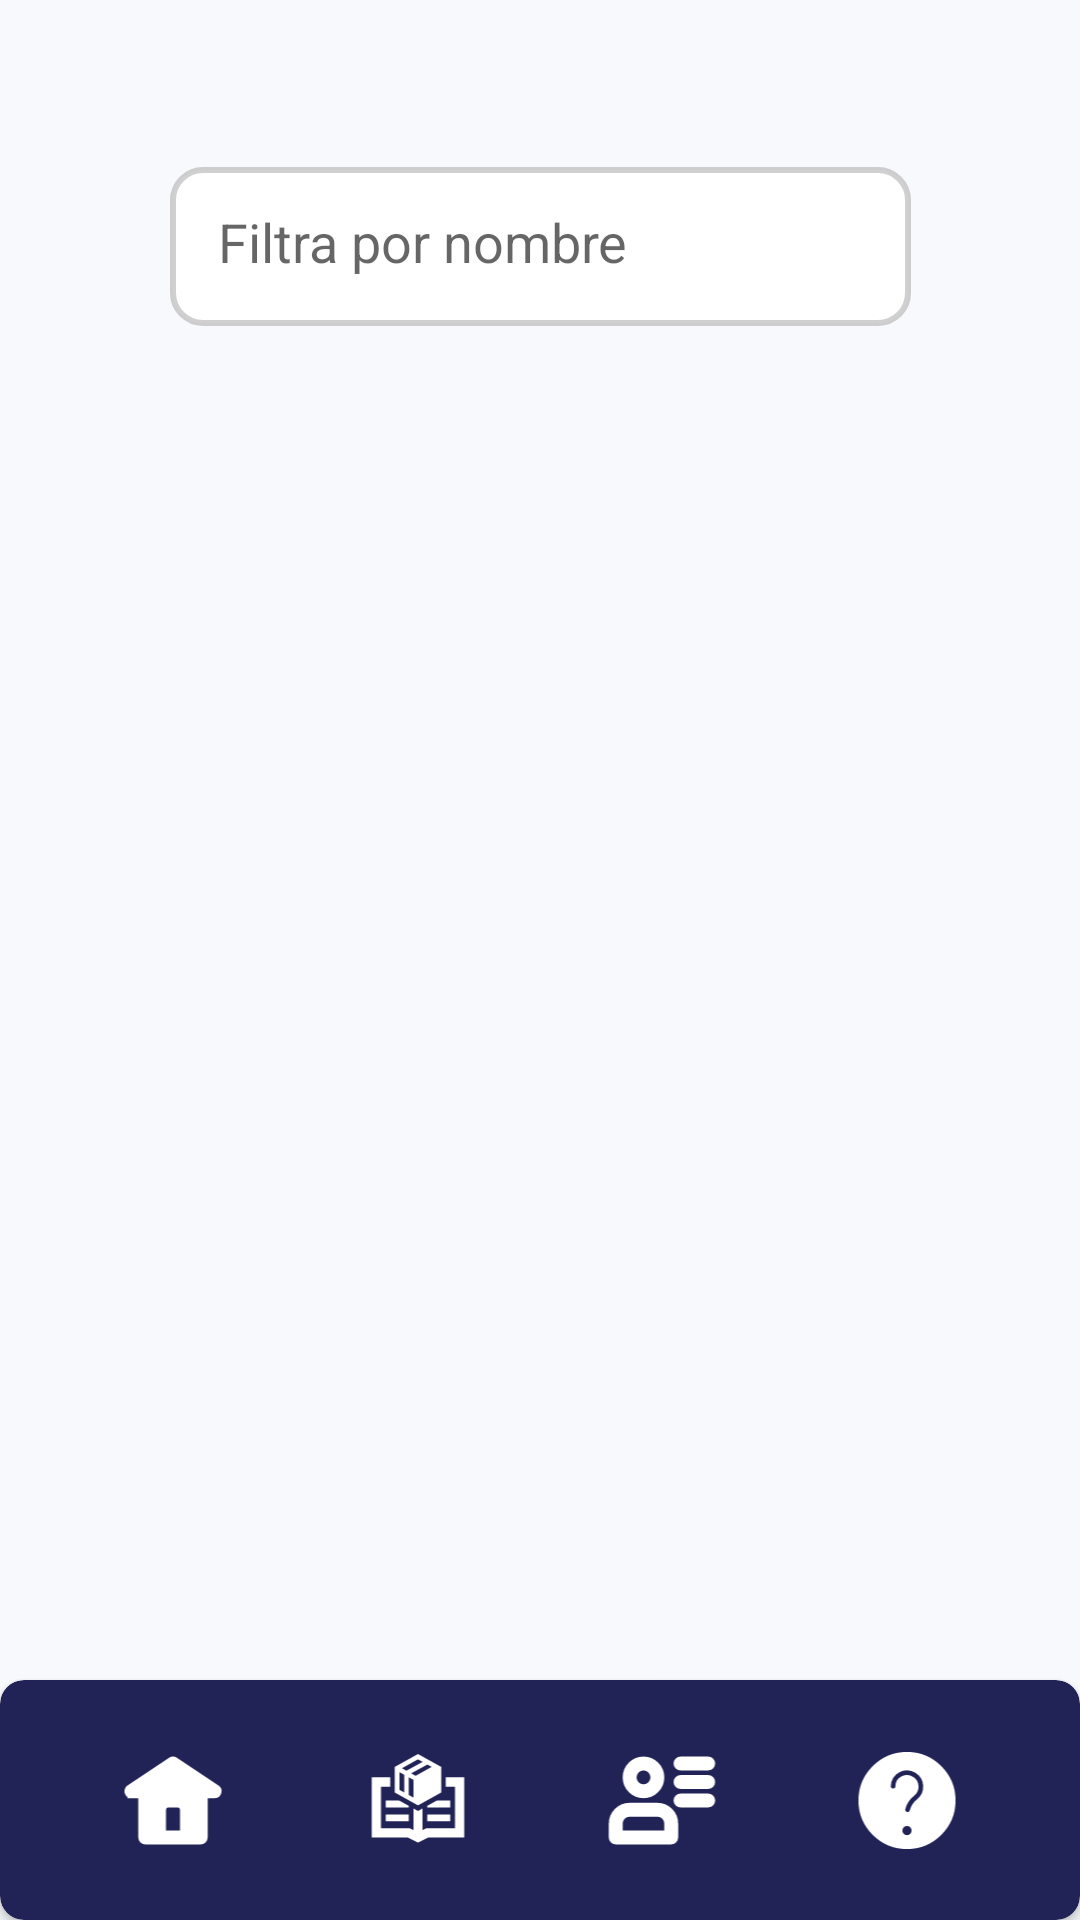

Icon bounding boxes for this 1080px x 1920px phone screenshot, format bbox(x1, y1, x2, y2):
faq: bbox(858, 1752, 956, 1849)
inicio: bbox(124, 1756, 222, 1845)
producto: bbox(371, 1754, 465, 1843)
user: bbox(608, 1756, 716, 1845)
